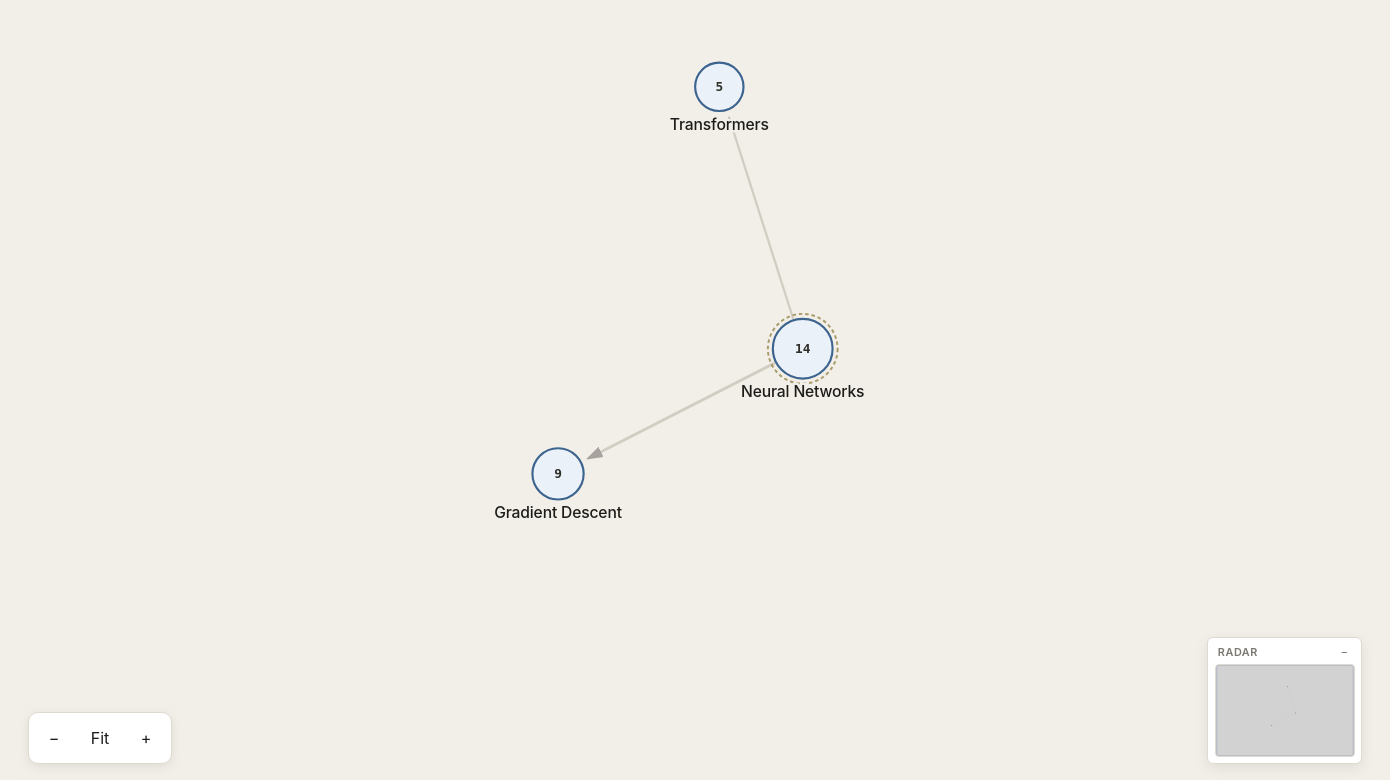
KnowledgeGraphView Editorial Workspace › toggles the radar minimap visibility
Expected: the element with class "graph-minimap-panel" is shown, [1207, 637, 1362, 764]
Expected: the icon with class "minimap-svg" is shown, [1215, 664, 1355, 757]
# Click to collapse
Click the button with class "minimap-toggle": x=1344, y=652 [1337, 645, 1351, 659]
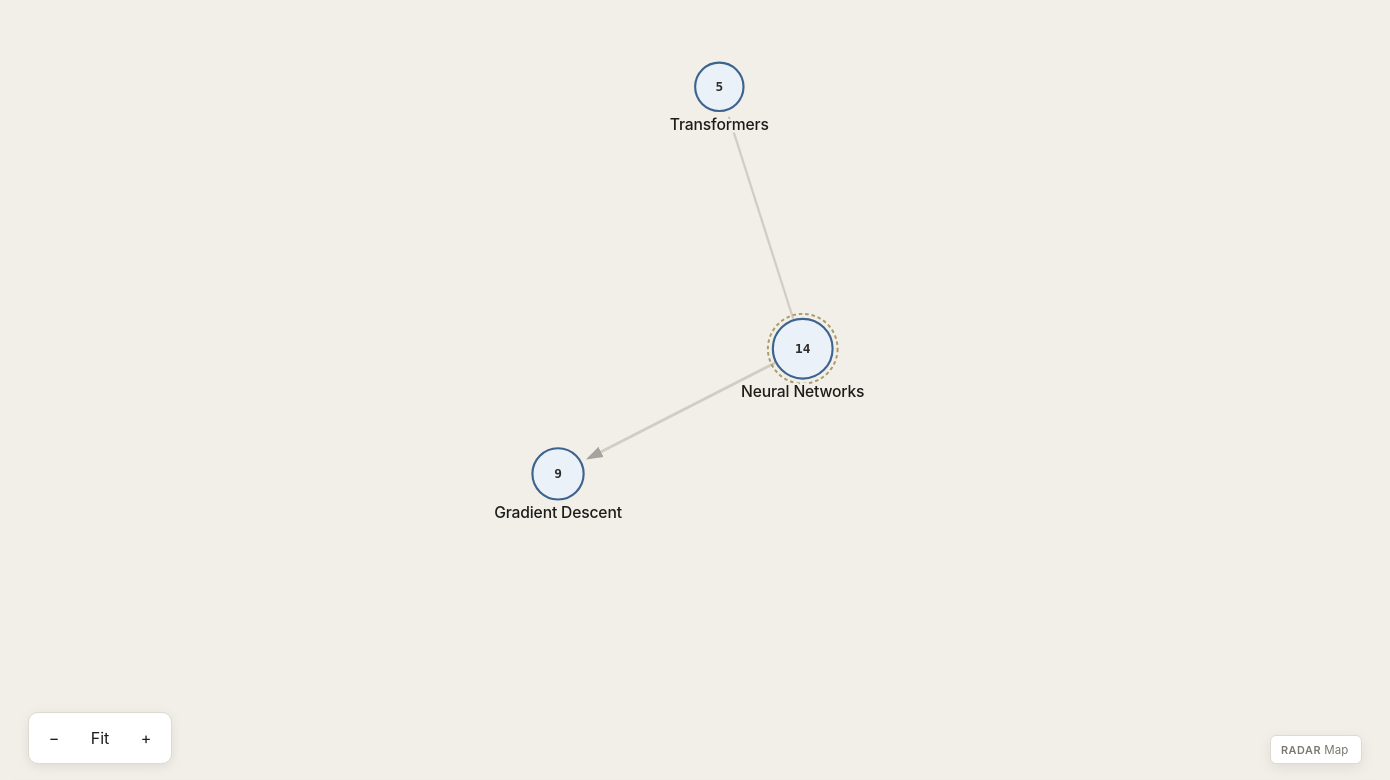
Now the icon with class "minimap-svg" is gone
# Click to expand again
Click the button with class "minimap-toggle": x=1336, y=750 [1321, 743, 1351, 757]
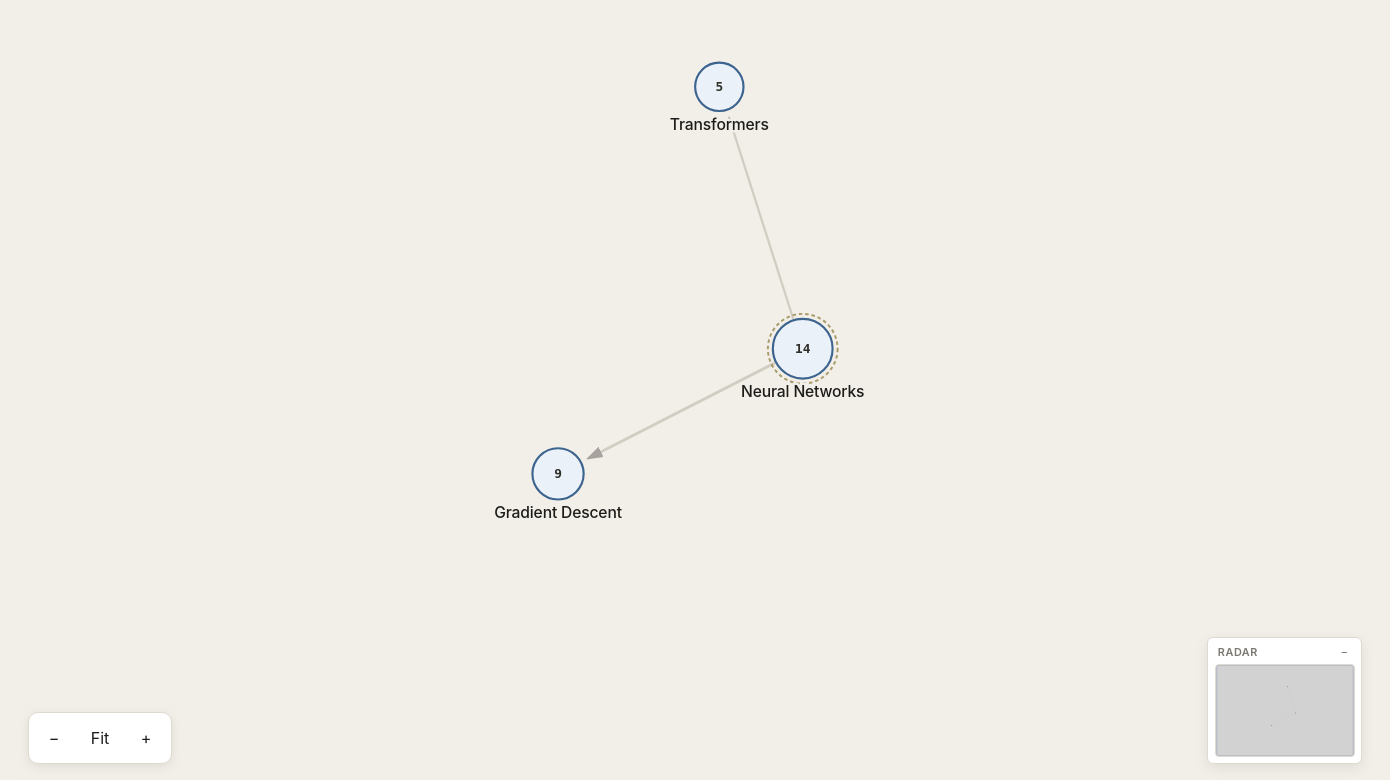
Now the icon with class "minimap-svg" is shown, box [1215, 664, 1355, 757]
